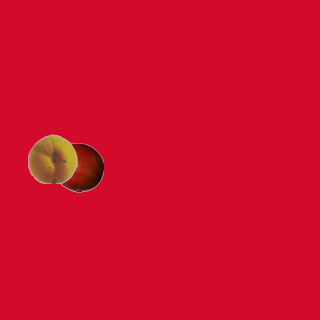Apple Braeburn: (53, 142, 103, 192)
Peach 2: (27, 133, 77, 183)
